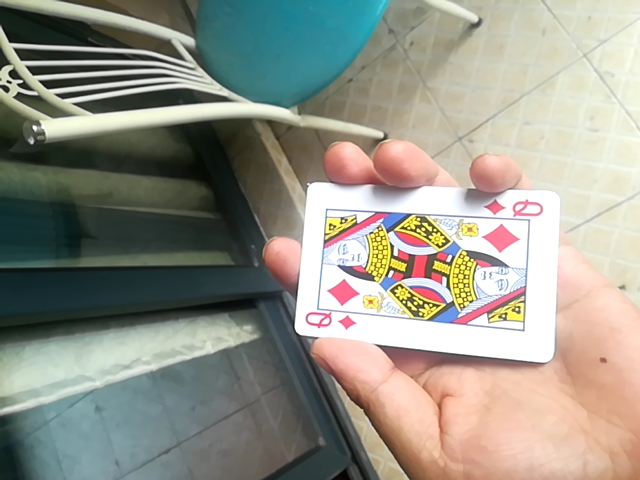fk q: (286, 176, 566, 353)
